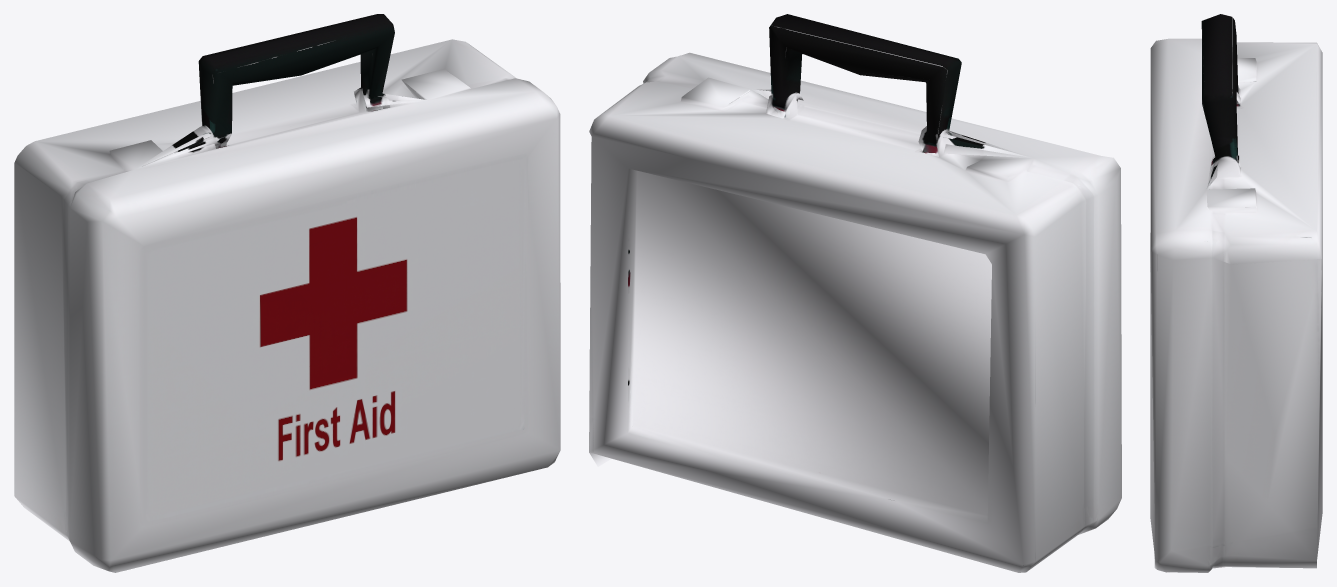
File: salud_maxima.glb
The picture shows the model from 3 angles, left to right: view 1: azimuth 30°, elevation 25°; view 2: azimuth 150°, elevation 25°; view 3: azimuth 270°, elevation 25°; orthographic projection. The views are drawn at different scales.
Parts seen in each view (by area): view 1: Mesh1.0; view 2: Mesh1.0; view 3: Mesh1.0.
Boxes of the visible parts, left/top/right/bottom form: Mesh1.0: left=14, top=14, right=560, bottom=572; Mesh1.0: left=589, top=14, right=1121, bottom=572; Mesh1.0: left=1150, top=14, right=1322, bottom=572.
Size of the model in its own units: 1.89 by 1.79 by 0.6622.
1 material, 1 textured.
